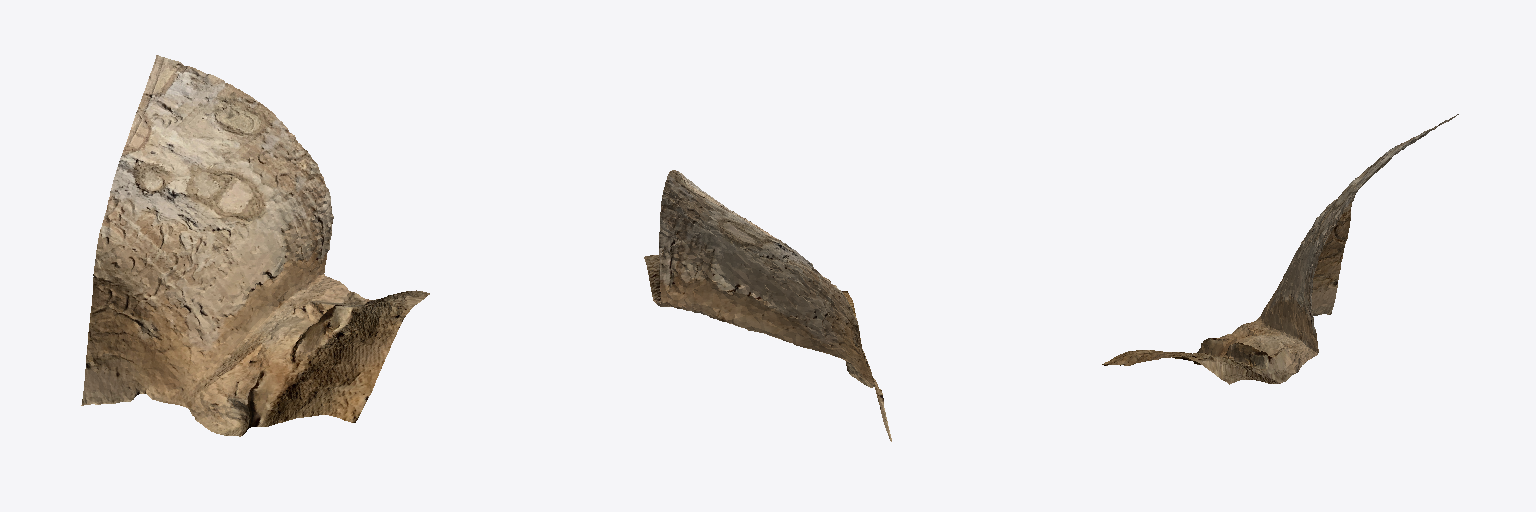
3 renders of one model, left to right at view 1: azimuth 30°, elevation 25°; view 2: azimuth 150°, elevation 25°; view 3: azimuth 270°, elevation 25°, orthographic.
Parts seen in each view (by area): view 1: texture_0; view 2: texture_0; view 3: texture_0.
Part boxes in pixels (x1,y1,x2,y2): texture_0: (81,55,429,436); texture_0: (644,170,891,441); texture_0: (1102,114,1458,384).
Bounding box in the file's own units: 0.4195 × 0.3692 × 0.436.
1 materials, 1 textured.